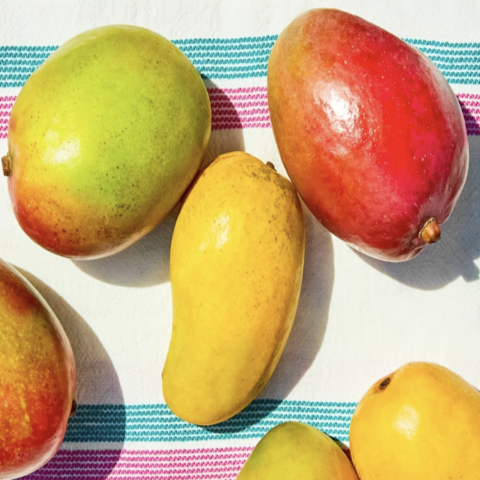mango: (251, 0, 480, 306), (0, 6, 221, 307), (151, 127, 319, 445)
